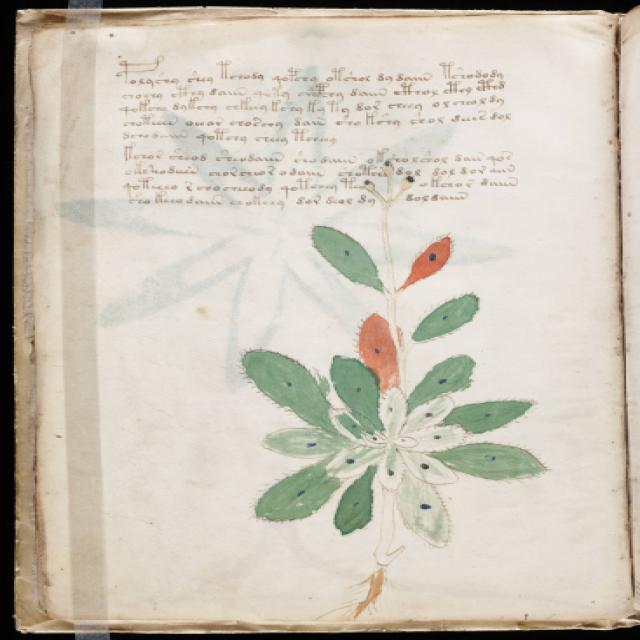plant: (233, 153, 557, 622)
